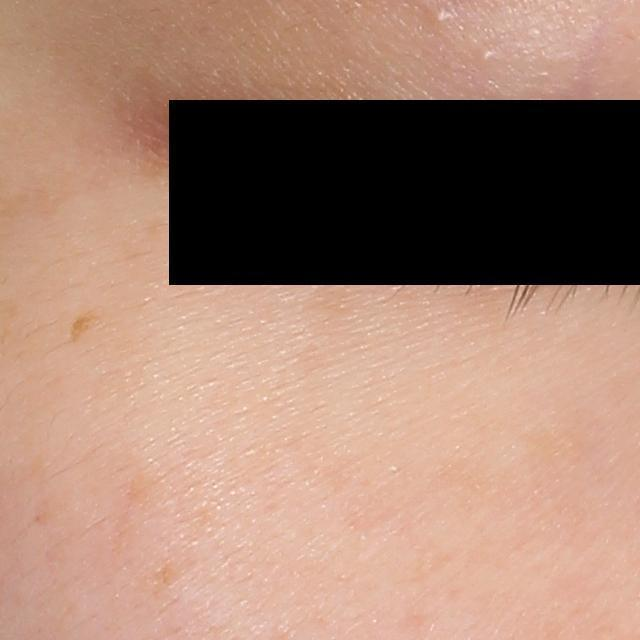melasma: (68, 313, 105, 343)
